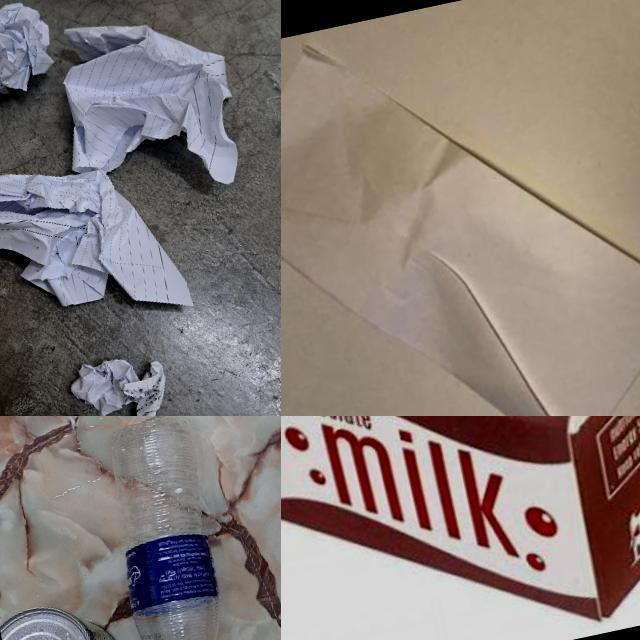caixinha: (281, 416, 640, 640)
garrafa plástica: (95, 416, 248, 640)
lata: (0, 589, 135, 640)
papel: (281, 0, 640, 416), (42, 0, 253, 215), (0, 139, 192, 365), (67, 346, 189, 416), (0, 0, 62, 108)
